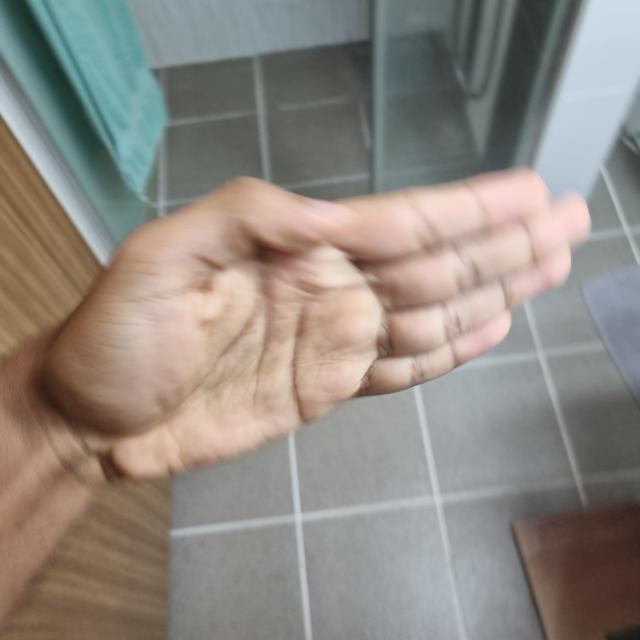Paper: (53, 172, 583, 477)
